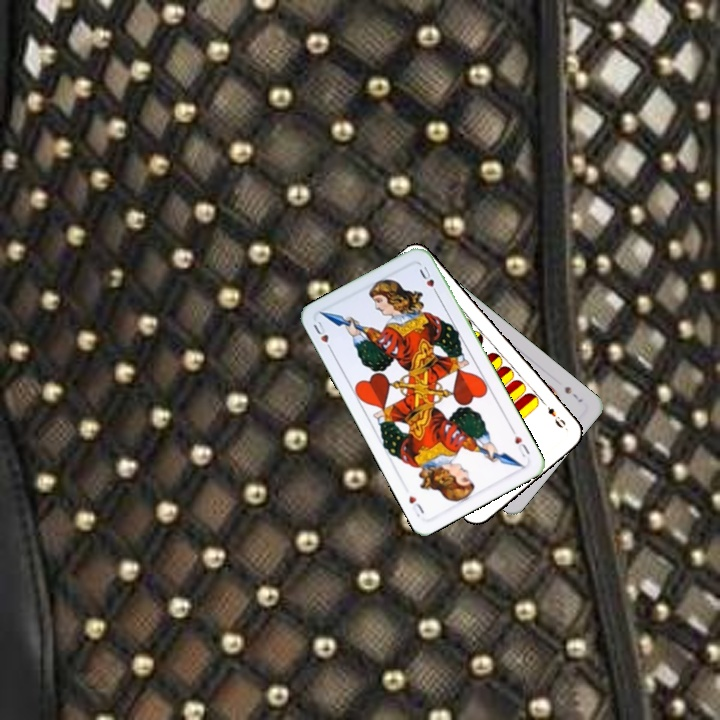E9: (543, 403, 568, 431)
HU: (309, 317, 335, 355), (507, 425, 532, 460)
S7: (561, 382, 585, 405)
